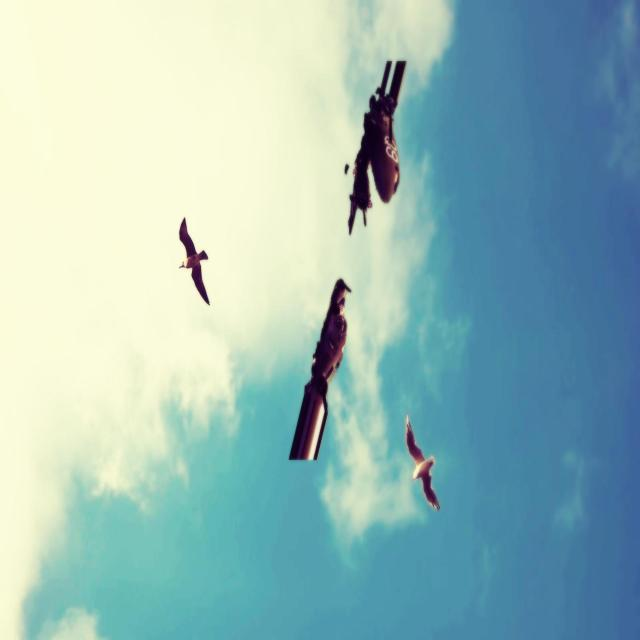airplane: (288, 278, 352, 460), (345, 58, 407, 235)
